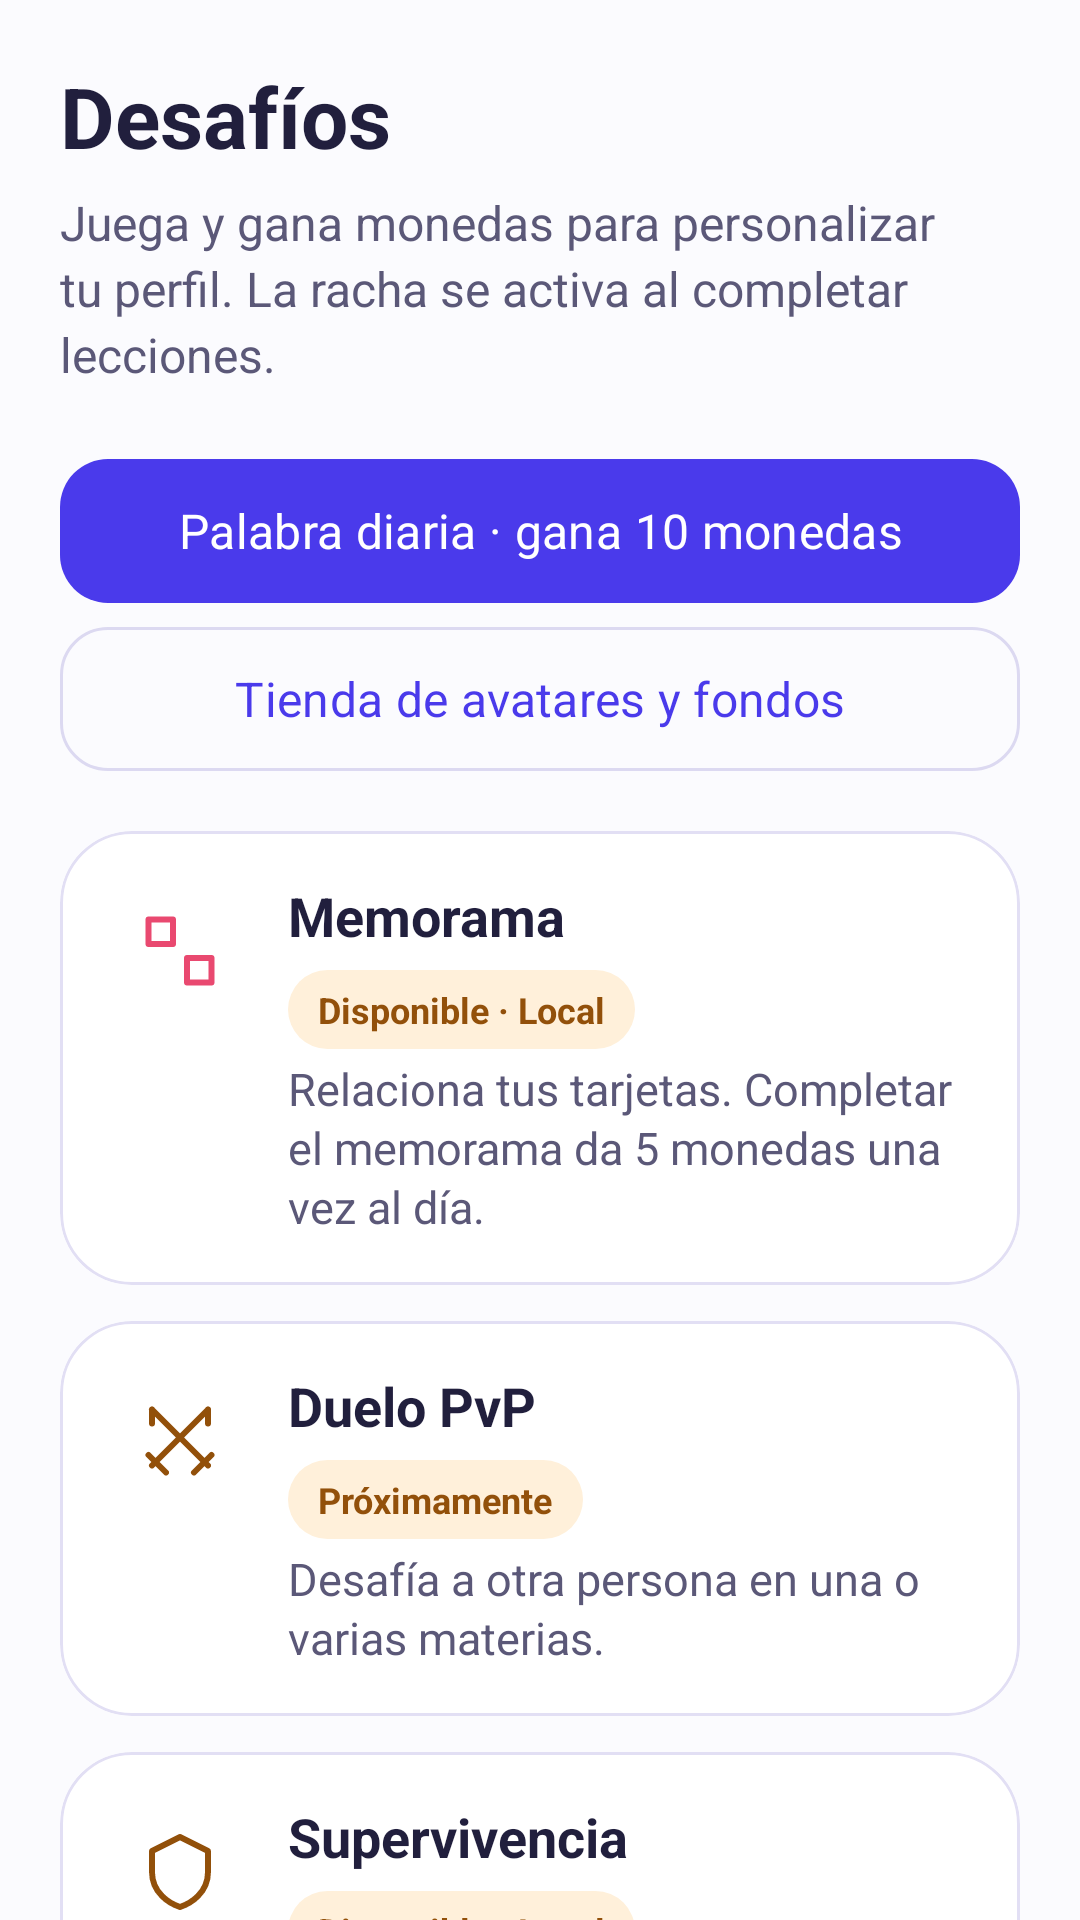

Icon bounding boxes for this 1080x1920 phone screenshot, format [x1, y1, x2, y2]:
ref memory: [145, 916, 215, 986]
ref swords: [145, 1406, 215, 1476]
